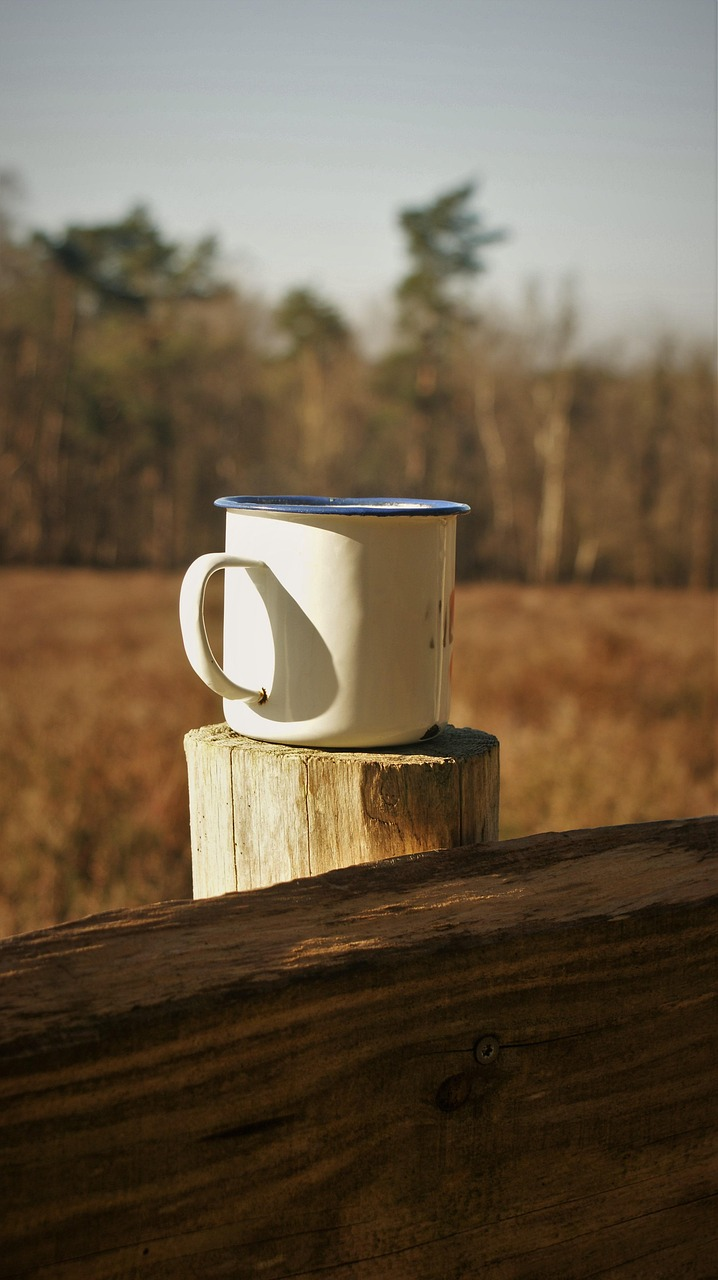mug: (108, 470, 502, 775)
